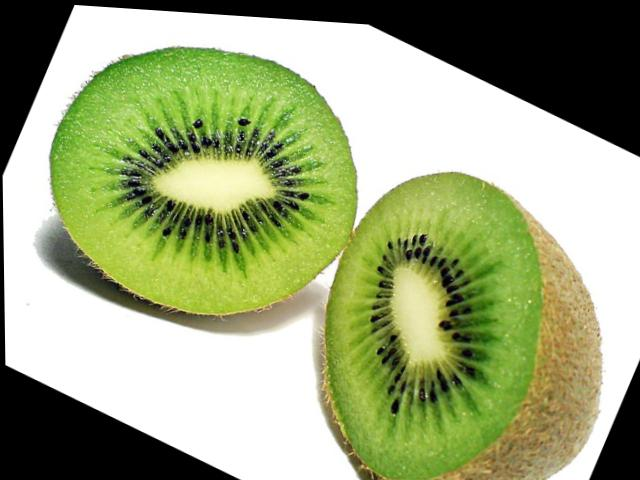organic: (0, 0, 431, 368), (301, 174, 600, 479)
